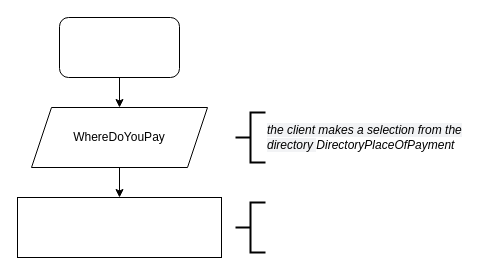
This 480x275 diagram has some shape labels left out. Each missing label, with the box of its shape:
DirectoryPlaceOfPayment=[ ] DirectoryCharacteristics=[ ]: (16, 196, 222, 258)
Start: (58, 16, 180, 78)
